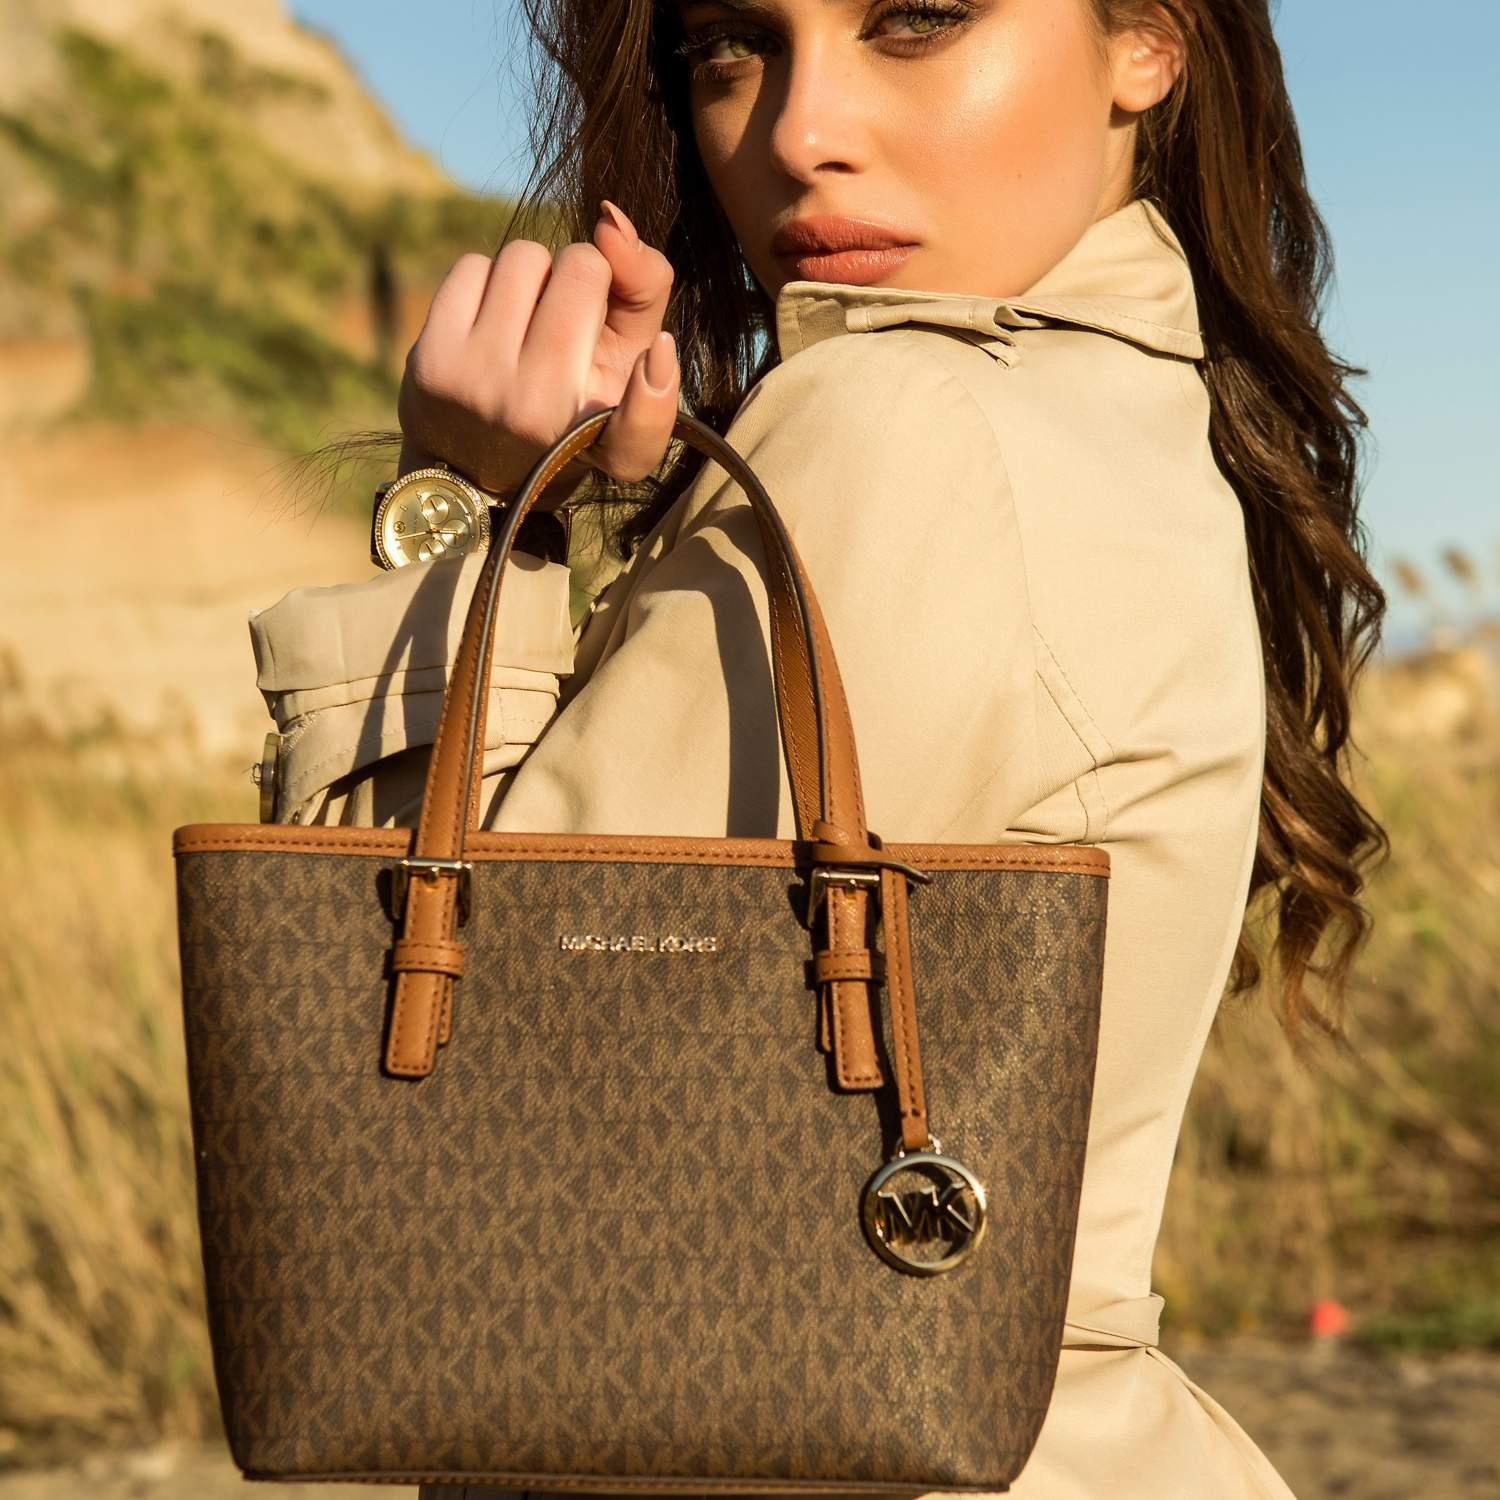MICHAEL-KORS: (562, 934, 716, 953)
